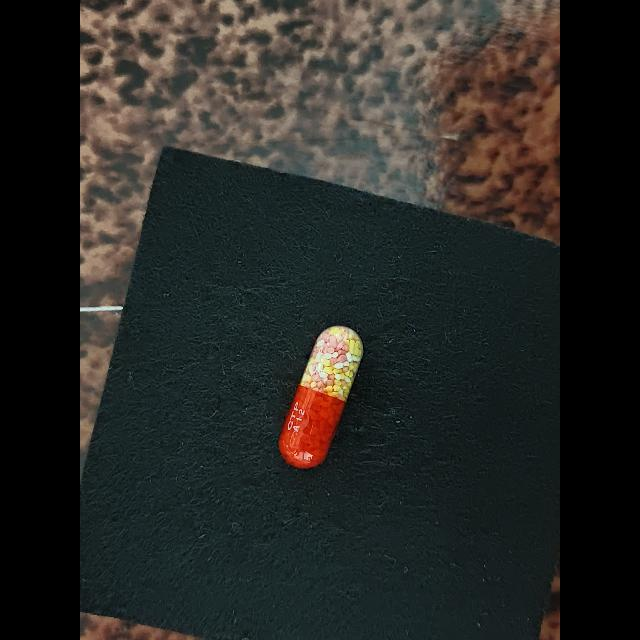Intact Capsule: (278, 325, 363, 469)
